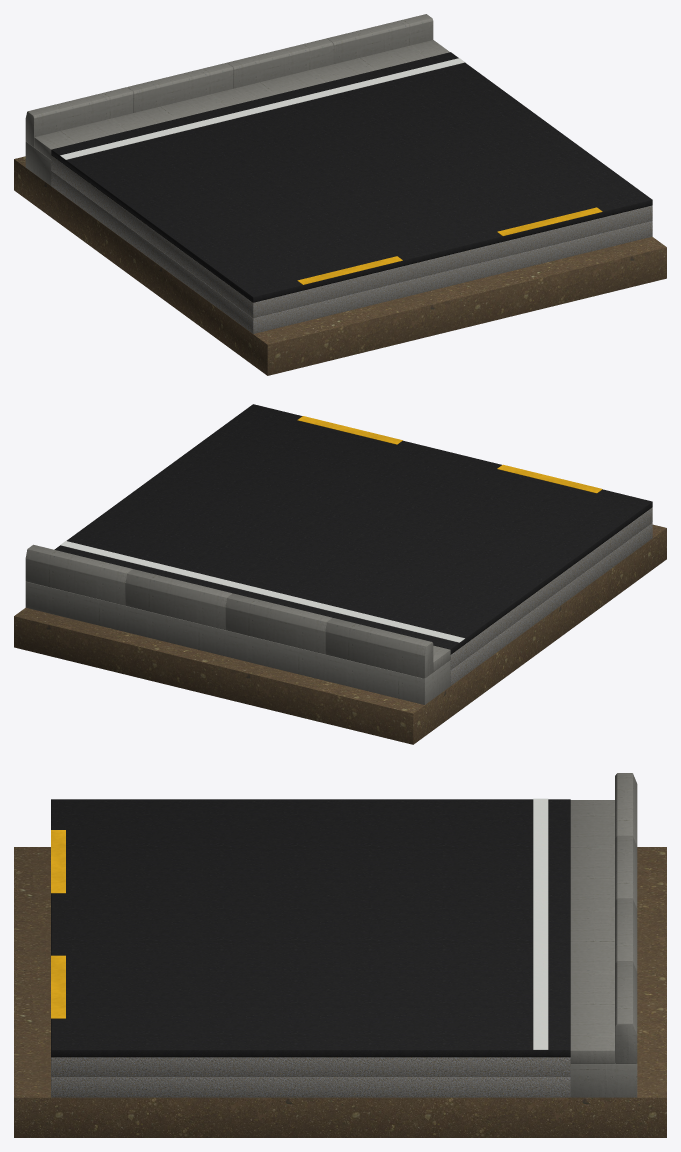
The model's file is KIT-PAV-01.glb.
3 views of the same model, one above another, from view 1: azimuth 30°, elevation 25°; view 2: azimuth 150°, elevation 25°; view 3: azimuth 270°, elevation 25° (orthographic). The views are drawn at different scales.
Visible parts, largest first — view 1: KIT-PAV-01_cbuq, KIT-PAV-01_subleito, KIT-PAV-01_subbase, KIT-PAV-01_base, KIT-PAV-01_sarjeta, KIT-PAV-01_mf0, KIT-PAV-01_mf1, KIT-PAV-01_mf2, KIT-PAV-01_mf3, KIT-PAV-01_bordo, KIT-PAV-01_berco, KIT-PAV-01_imprimacao (+2 smaller); view 2: KIT-PAV-01_cbuq, KIT-PAV-01_subleito, KIT-PAV-01_berco, KIT-PAV-01_mf0, KIT-PAV-01_mf2, KIT-PAV-01_mf1, KIT-PAV-01_mf3, KIT-PAV-01_subbase, KIT-PAV-01_base, KIT-PAV-01_bordo, KIT-PAV-01_eixo0, KIT-PAV-01_eixo1; view 3: KIT-PAV-01_cbuq, KIT-PAV-01_subleito, KIT-PAV-01_sarjeta, KIT-PAV-01_base, KIT-PAV-01_subbase, KIT-PAV-01_bordo, KIT-PAV-01_mf3, KIT-PAV-01_berco, KIT-PAV-01_mf2, KIT-PAV-01_mf1, KIT-PAV-01_mf0, KIT-PAV-01_imprimacao (+2 smaller).
Part boxes in pixels (left/top/right/bottom): KIT-PAV-01_cbuq: left=51, top=52, right=652, bottom=302; KIT-PAV-01_subleito: left=14, top=156, right=666, bottom=375; KIT-PAV-01_subbase: left=51, top=171, right=652, bottom=333; KIT-PAV-01_base: left=51, top=155, right=652, bottom=318; KIT-PAV-01_sarjeta: left=34, top=40, right=449, bottom=159; KIT-PAV-01_mf0: left=25, top=87, right=133, bottom=146; KIT-PAV-01_mf1: left=127, top=62, right=233, bottom=112; KIT-PAV-01_mf2: left=227, top=38, right=333, bottom=88; KIT-PAV-01_mf3: left=327, top=14, right=433, bottom=63; KIT-PAV-01_bordo: left=60, top=58, right=465, bottom=159; KIT-PAV-01_berco: left=25, top=141, right=51, bottom=185; KIT-PAV-01_imprimacao: left=51, top=155, right=652, bottom=302; KIT-PAV-01_cbuq: left=54, top=404, right=652, bottom=653; KIT-PAV-01_subleito: left=14, top=524, right=666, bottom=744; KIT-PAV-01_berco: left=25, top=581, right=450, bottom=704; KIT-PAV-01_mf0: left=325, top=618, right=433, bottom=678; KIT-PAV-01_mf2: left=125, top=569, right=232, bottom=629; KIT-PAV-01_mf1: left=225, top=593, right=332, bottom=654; KIT-PAV-01_mf3: left=25, top=544, right=132, bottom=605; KIT-PAV-01_subbase: left=450, top=523, right=652, bottom=685; KIT-PAV-01_base: left=450, top=507, right=652, bottom=669; KIT-PAV-01_bordo: left=60, top=541, right=464, bottom=642; KIT-PAV-01_eixo0: left=497, top=464, right=602, bottom=493; KIT-PAV-01_eixo1: left=297, top=416, right=402, bottom=444; KIT-PAV-01_cbuq: left=51, top=799, right=570, bottom=1056; KIT-PAV-01_subleito: left=14, top=847, right=666, bottom=1137; KIT-PAV-01_sarjeta: left=570, top=800, right=614, bottom=1063; KIT-PAV-01_base: left=51, top=1057, right=570, bottom=1077; KIT-PAV-01_subbase: left=51, top=1077, right=570, bottom=1097; KIT-PAV-01_bordo: left=533, top=798, right=548, bottom=1049; KIT-PAV-01_mf3: left=615, top=961, right=637, bottom=1063; KIT-PAV-01_berco: left=570, top=1063, right=637, bottom=1097; KIT-PAV-01_mf2: left=615, top=898, right=637, bottom=971; KIT-PAV-01_mf1: left=615, top=835, right=637, bottom=908; KIT-PAV-01_mf0: left=615, top=773, right=637, bottom=845; KIT-PAV-01_imprimacao: left=51, top=1056, right=570, bottom=1057.
Size of the model in its own units: 4 by 0.85 by 4.4.
Materials: 7 (7 with a texture image).
